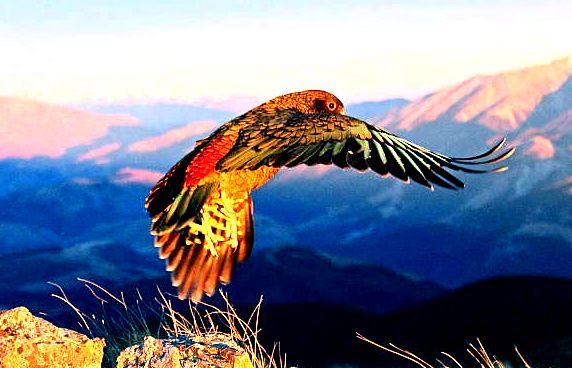Bird: (139, 86, 516, 307)
